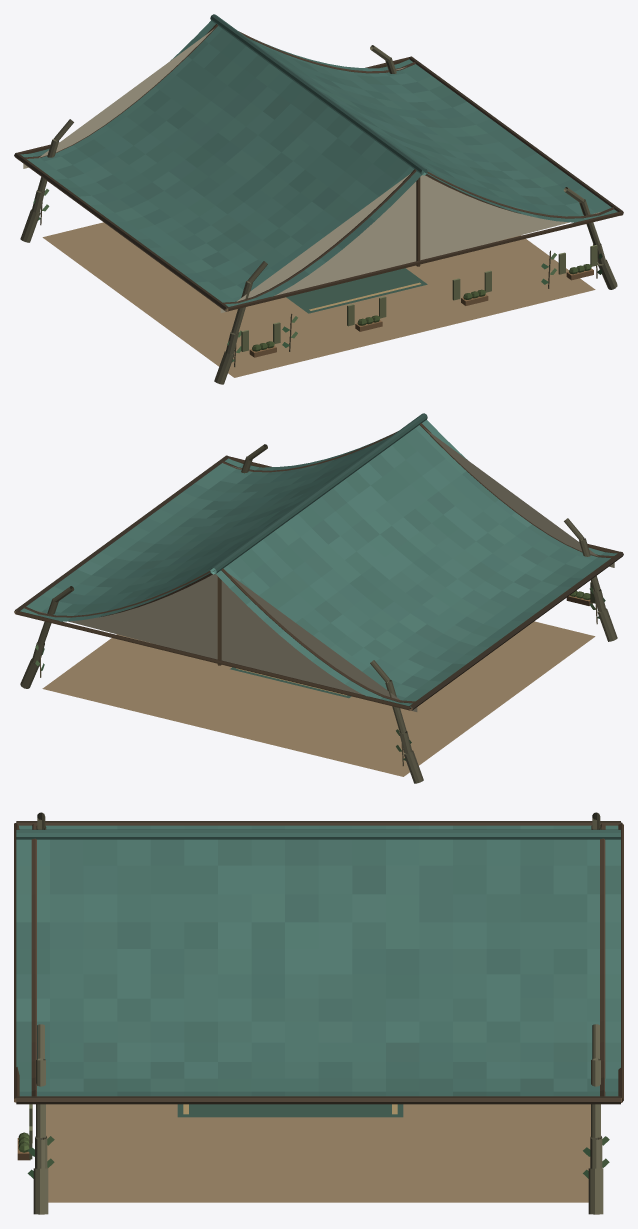
3 views of the same model, one above another, from view 1: azimuth 30°, elevation 25°; view 2: azimuth 150°, elevation 25°; view 3: azimuth 270°, elevation 25° (orthographic). The views are drawn at different scales.
Parts seen in each view (by area): view 1: 79973aed2a28902b7181b1d096447f5632ea20ba3aa8a4d630c8a723a931; view 2: 79973aed2a28902b7181b1d096447f5632ea20ba3aa8a4d630c8a723a931; view 3: 79973aed2a28902b7181b1d096447f5632ea20ba3aa8a4d630c8a723a931.
Boxes of the visible parts, x1,y1,x2,y2 form: 79973aed2a28902b7181b1d096447f5632ea20ba3aa8a4d630c8a723a931: (14,14,623,384); 79973aed2a28902b7181b1d096447f5632ea20ba3aa8a4d630c8a723a931: (14,413,623,783); 79973aed2a28902b7181b1d096447f5632ea20ba3aa8a4d630c8a723a931: (14,812,623,1214).
Size of the model in its own units: 14.13 by 5.85 by 12.97.
6 materials, 1 textured.
